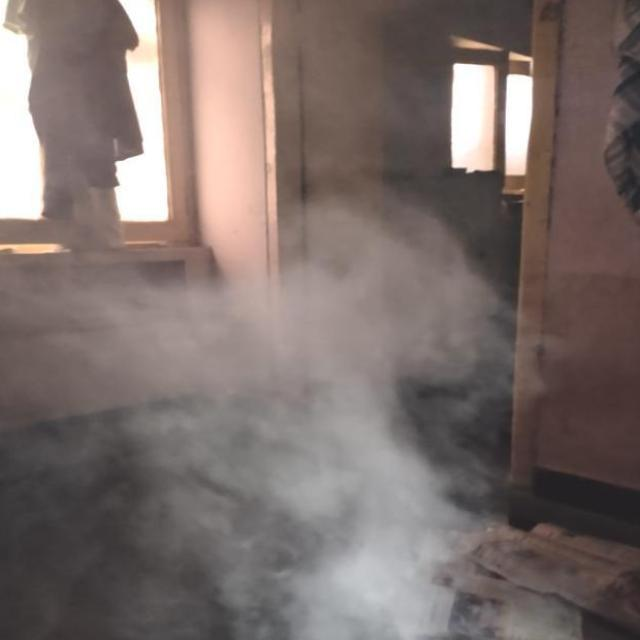fire: (3, 227, 533, 640)
